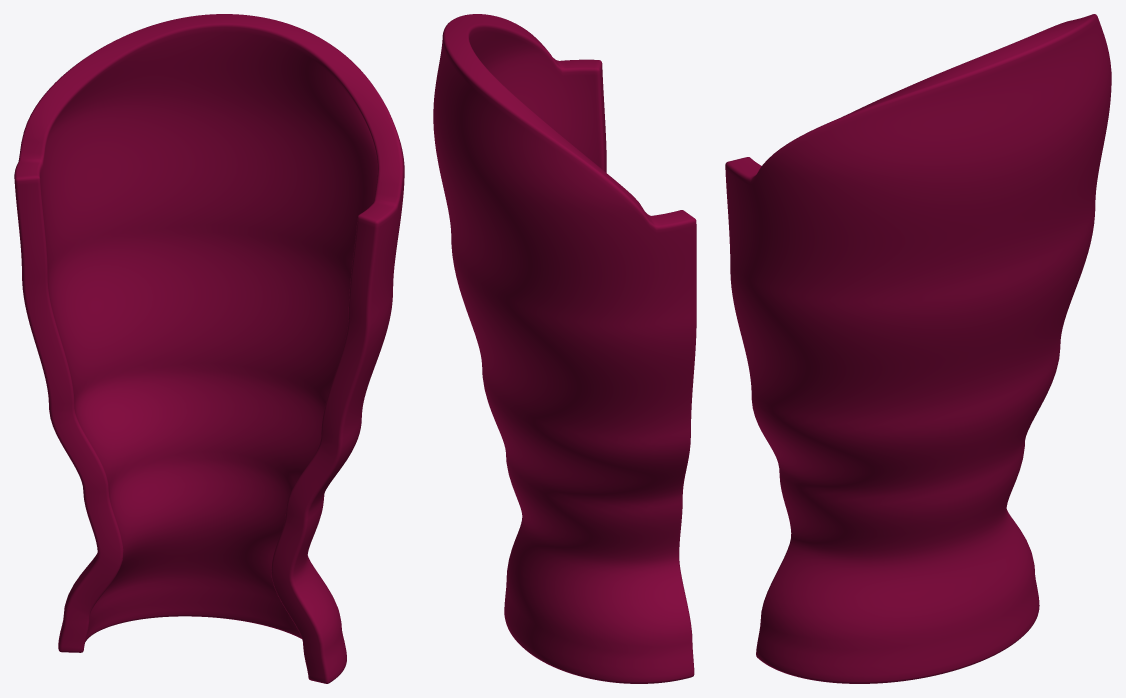
The model's file is SM_ChairShell.fbx.
3 renders of one model, left to right at view 1: azimuth 30°, elevation 25°; view 2: azimuth 150°, elevation 25°; view 3: azimuth 270°, elevation 25°, orthographic. The views are drawn at different scales.
Parts seen in each view (by area): view 1: SM_ChairShell; view 2: SM_ChairShell; view 3: SM_ChairShell.
Part boxes in pixels (bbox=[...]): SM_ChairShell: bbox=[14, 14, 404, 683]; SM_ChairShell: bbox=[433, 14, 696, 683]; SM_ChairShell: bbox=[725, 14, 1111, 683].
Bounding box in the file's own units: 0.8739 × 0.884 × 1.6.
